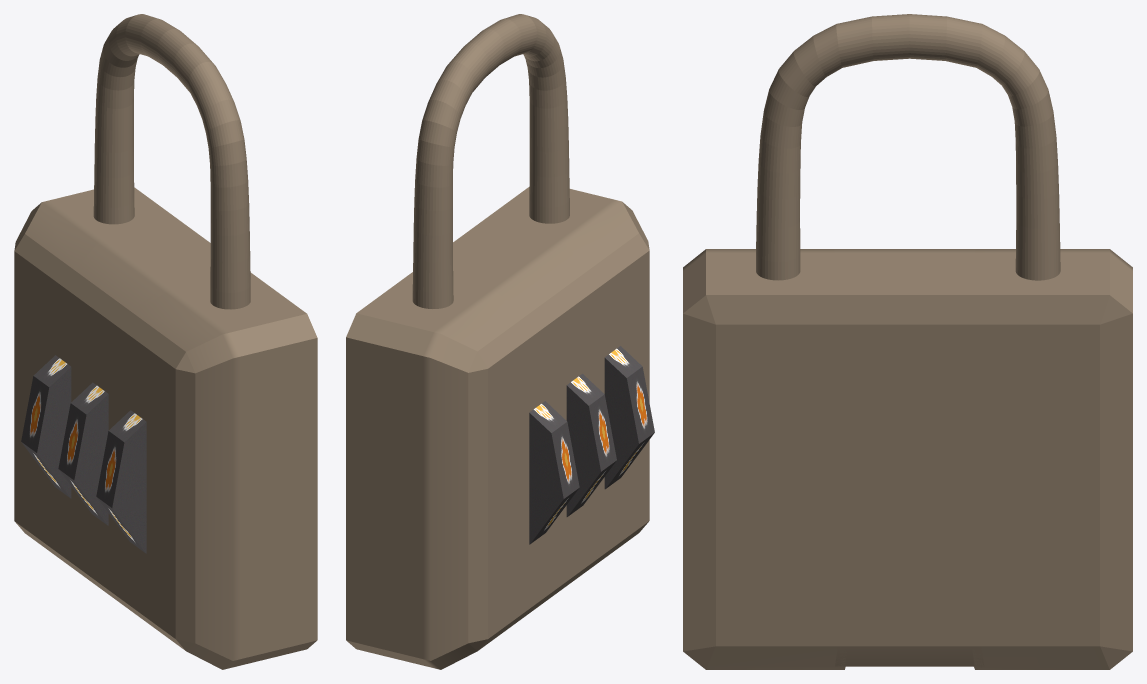
The model's file is Lock.fbx.
The picture shows the model from 3 angles, left to right: view 1: azimuth 30°, elevation 25°; view 2: azimuth 150°, elevation 25°; view 3: azimuth 270°, elevation 25°; orthographic projection. The views are drawn at different scales.
Visible parts, largest first — view 1: lock, pipe, code5, code4, code2; view 2: lock, pipe, code2, code5, code4; view 3: lock, pipe.
Part boxes in pixels (<box>): lock: <box>14,187,317,669</box>; pipe: <box>93,14,250,309</box>; code5: <box>96,410,146,553</box>; code4: <box>58,382,108,525</box>; code2: <box>21,355,71,498</box>; lock: <box>346,187,649,669</box>; pipe: <box>412,14,569,308</box>; code2: <box>529,401,579,544</box>; code5: <box>604,346,654,489</box>; code4: <box>566,373,616,516</box>; lock: <box>683,249,1132,669</box>; pipe: <box>756,14,1060,280</box>.
Size of the model in its own units: 3.84 by 12.78 by 8.27.
